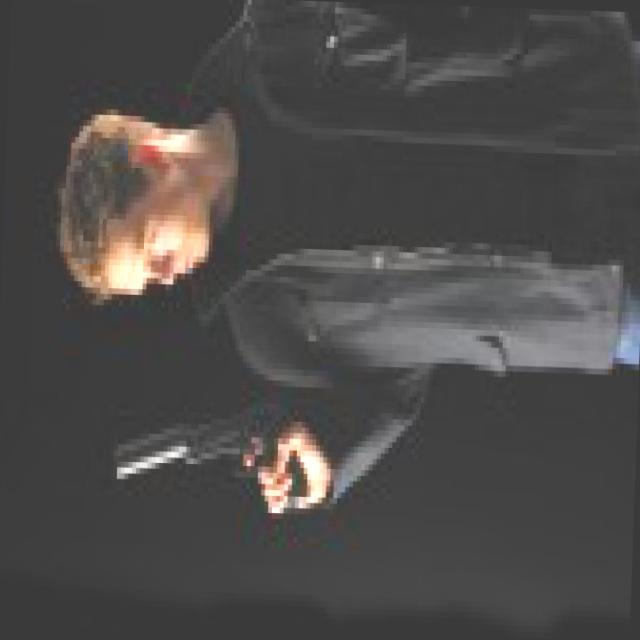handgun: (99, 402, 317, 541)
